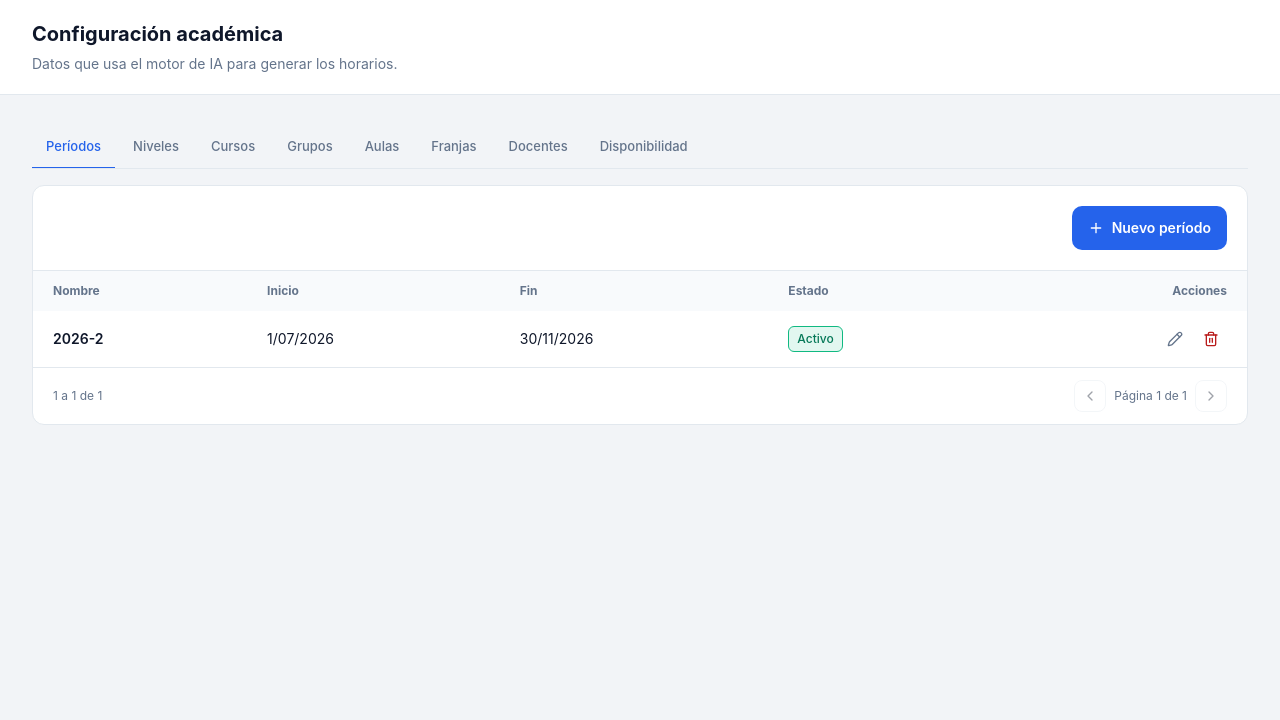
it: Configuración académica (RF-09 a RF-16) › avisa cuando un período no se puede eliminar porque está en uso (RNF-19)
This screenshot has width=1280, height=720.
Click the button named "Eliminar el período 2026-2": [1211, 338] box x1=1195 y1=322 x2=1227 y2=354
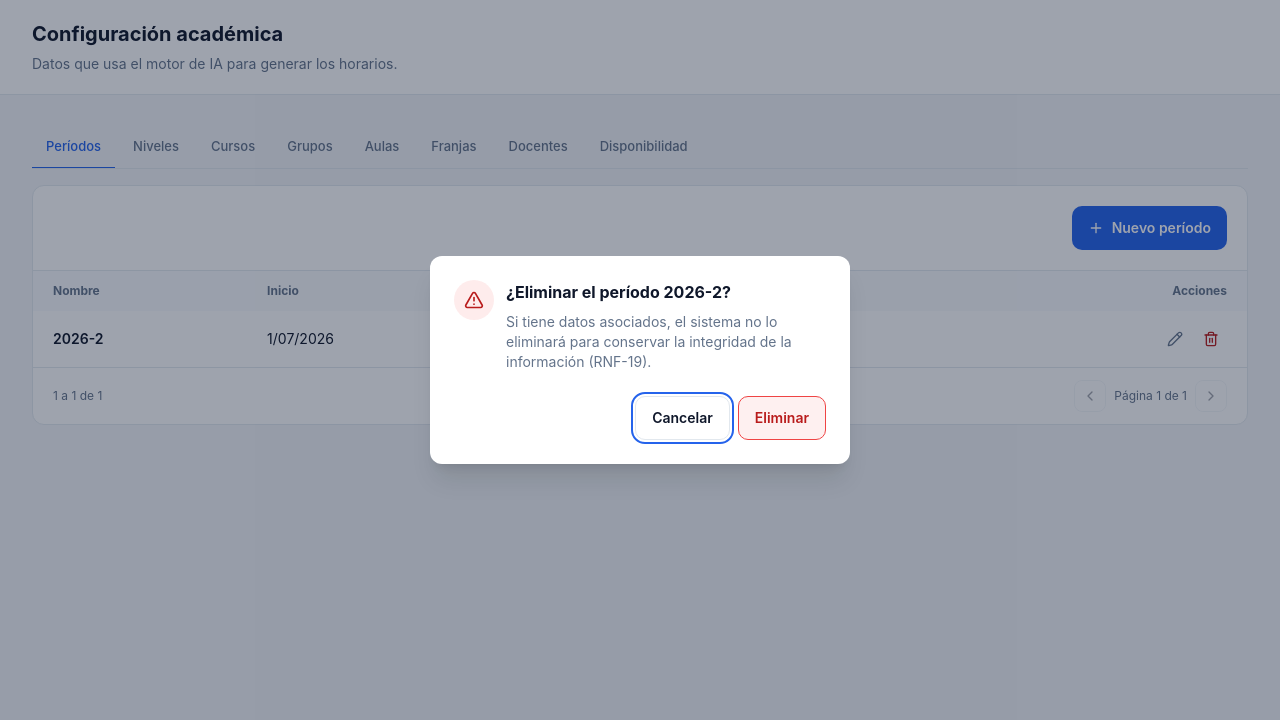
Click the button "Eliminar": [782, 418] box x1=738 y1=396 x2=826 y2=440
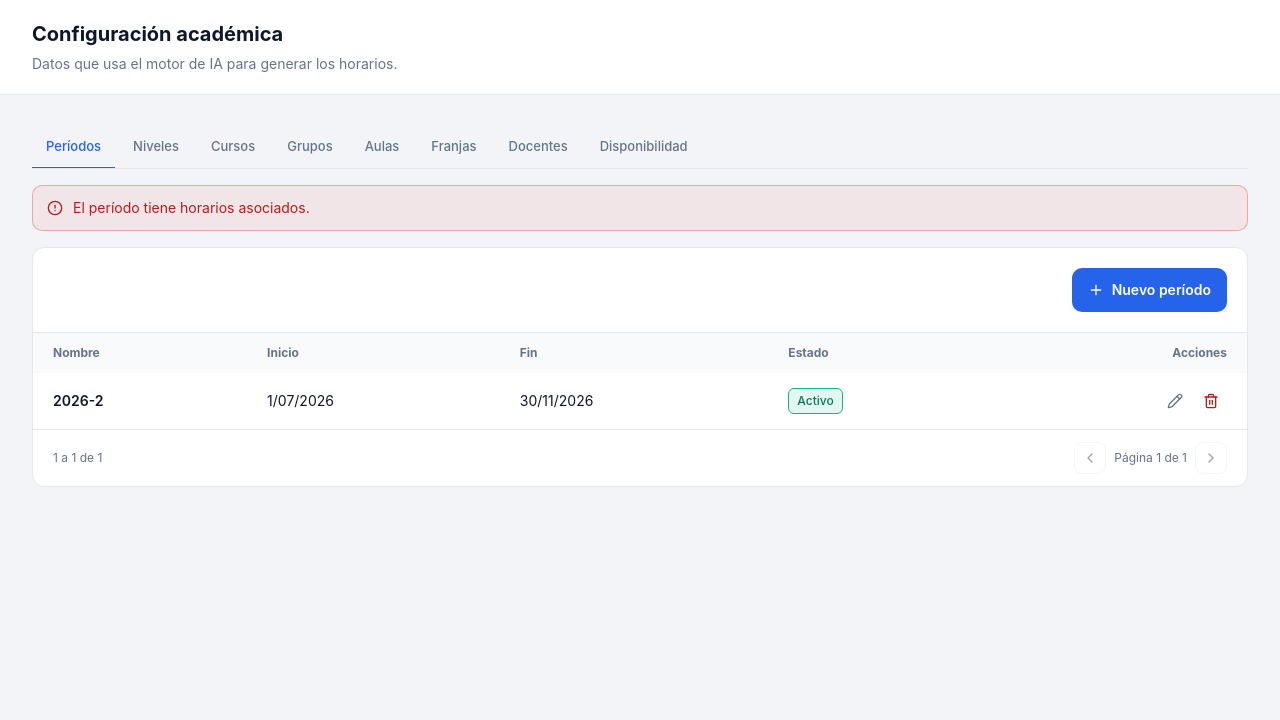
expect the text "El período tiene horarios asociados." is shown: met, box x1=73 y1=198 x2=310 y2=218
